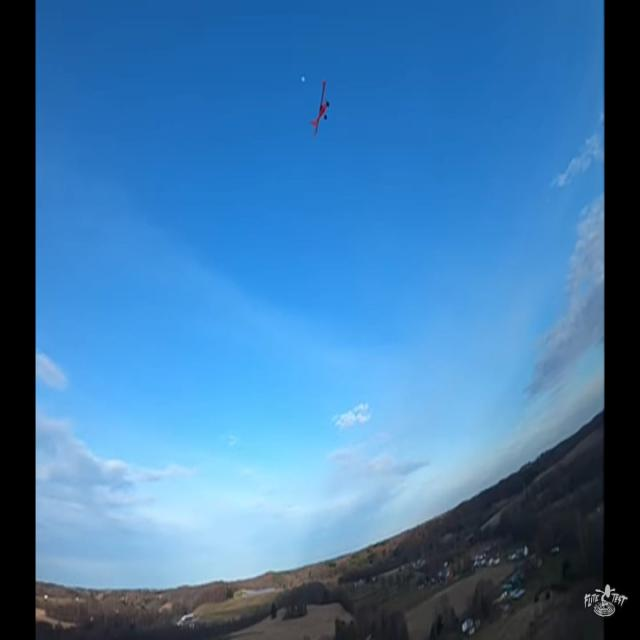iha: (310, 15, 330, 74)
